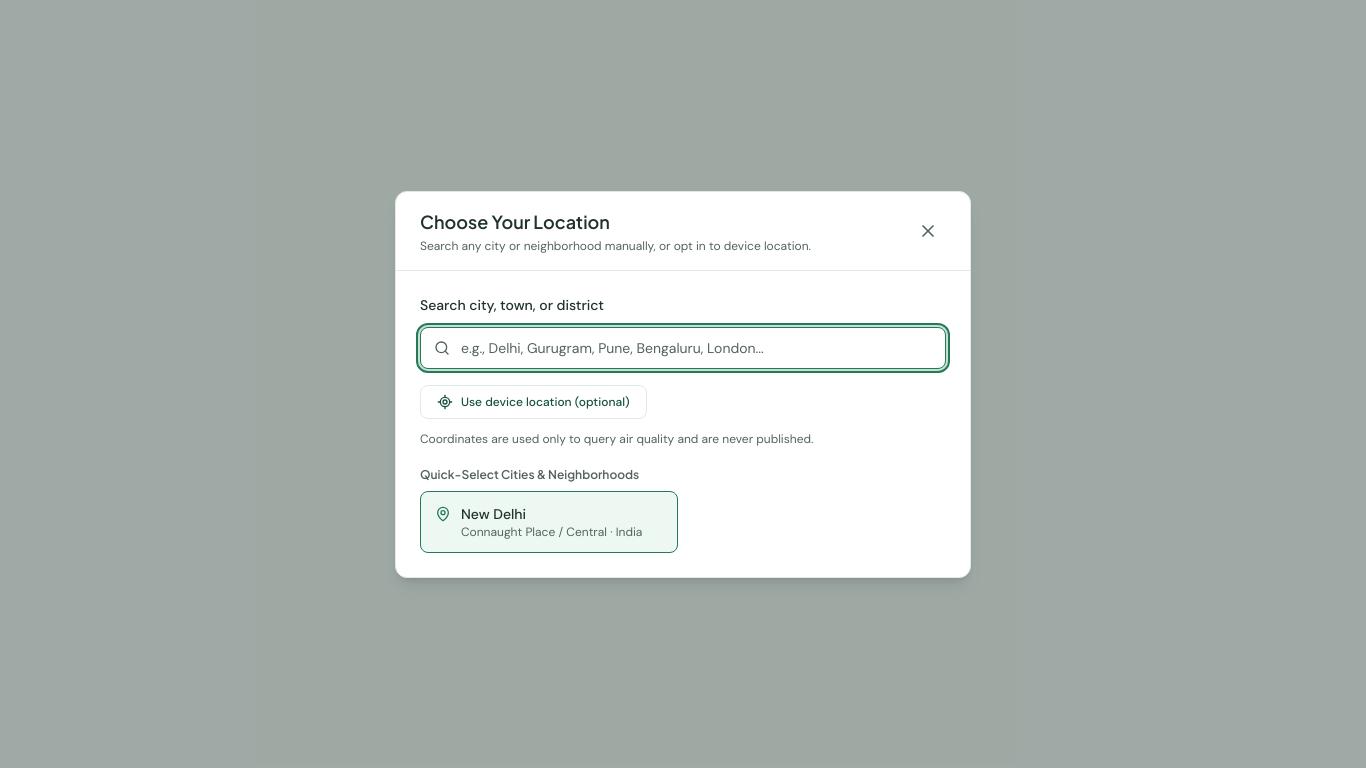
Scenario: React UI component, keyboard, focus, and accessibility behaviors › LocationSelectorModal displays an accessible alert when search fails
Type "Mumbai" into the search field labelled "Search city, town, or district".
click(683, 348); type("Mumbai")  # box [420,326,946,368]
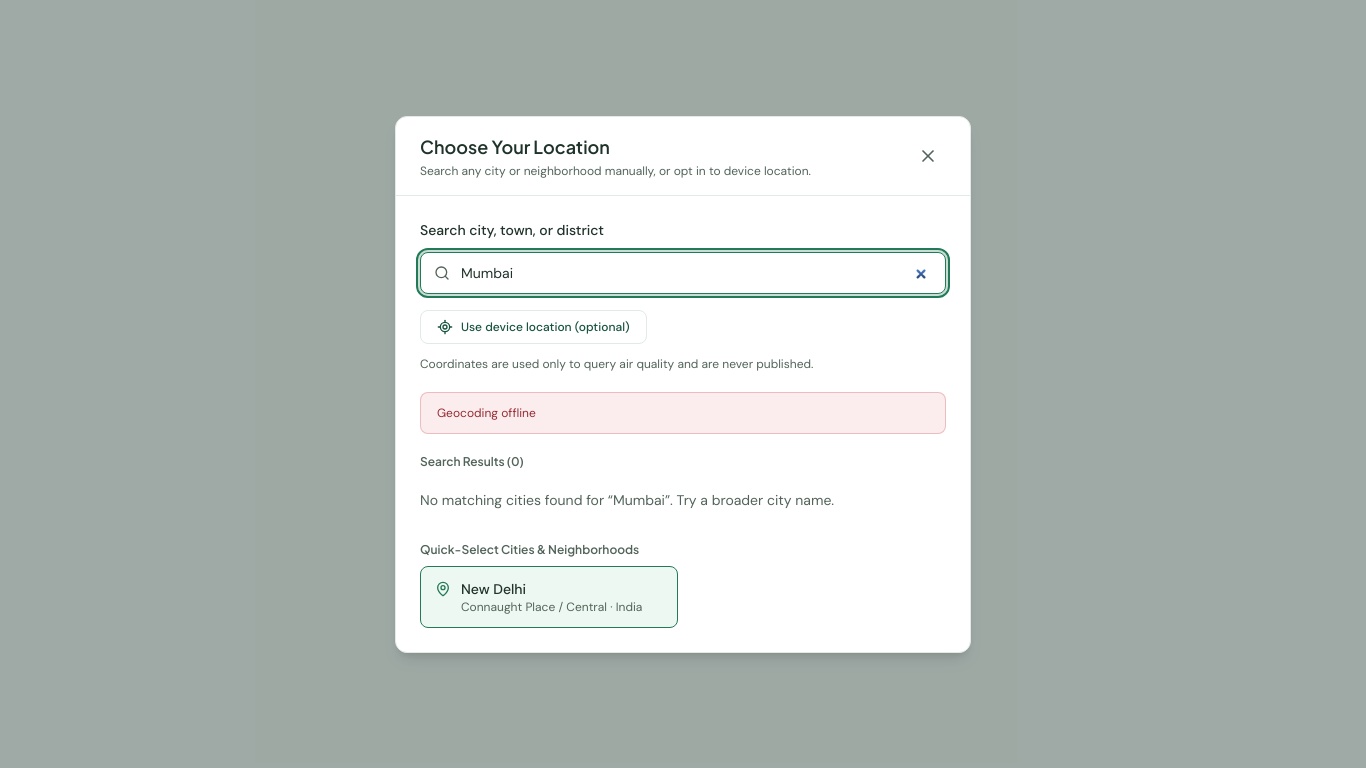
Check: the message reads "Geocoding offline", box [437,404,536,420]
